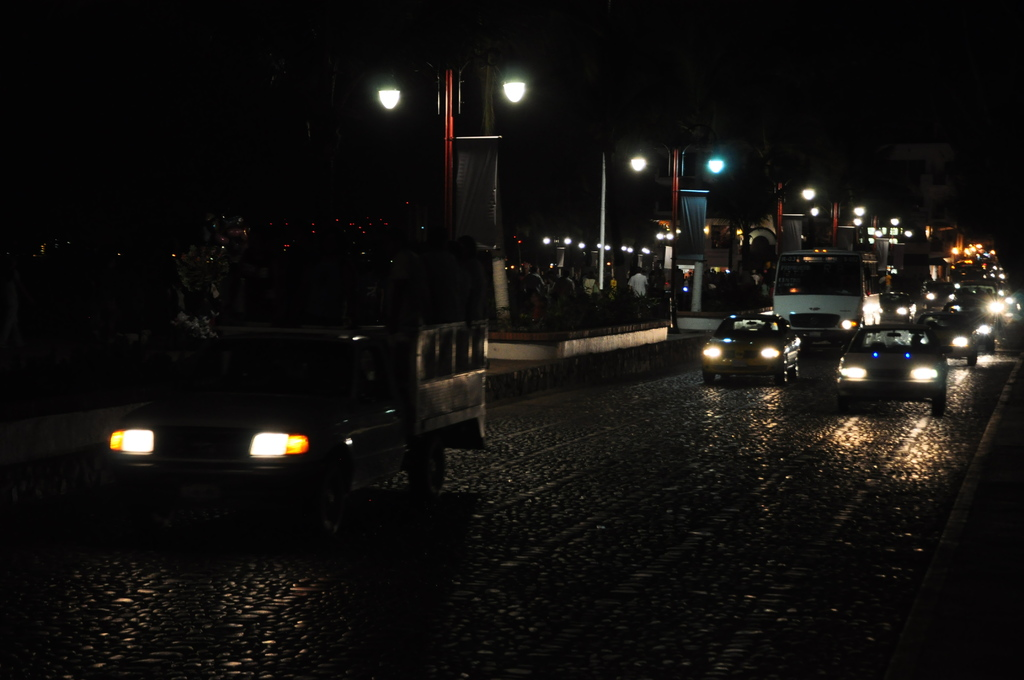Car: (103, 315, 442, 523), (692, 274, 1023, 409)
